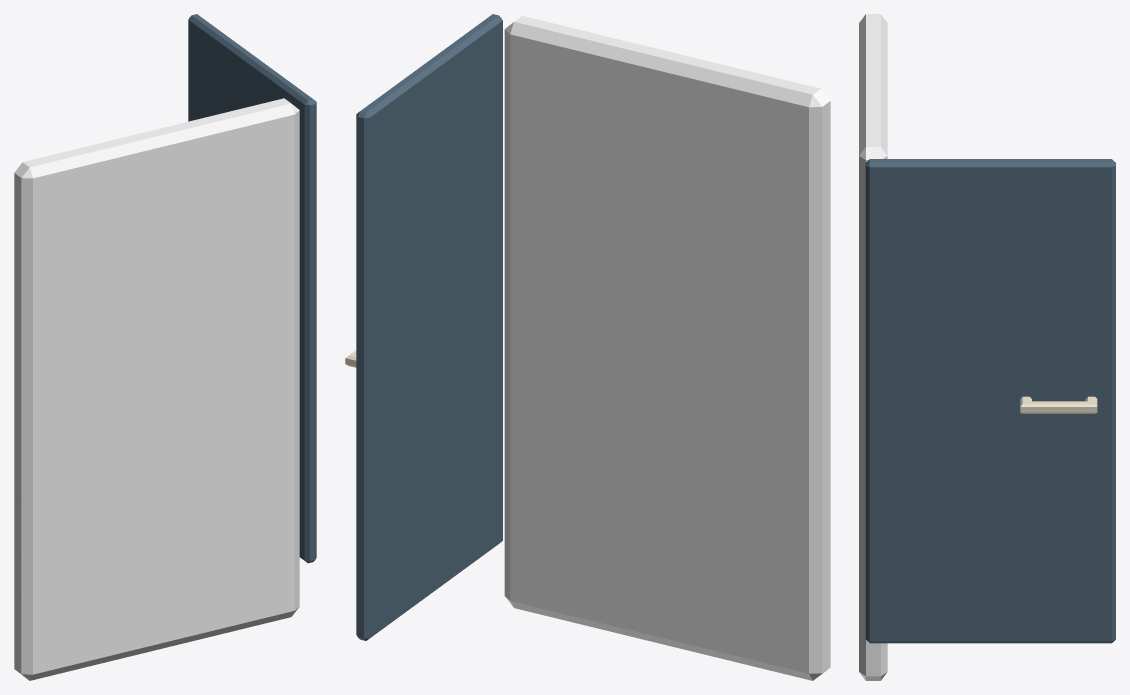
Rendered from SM_BathroomClosed.fbx.
3 renders of one model, left to right at view 1: azimuth 30°, elevation 25°; view 2: azimuth 150°, elevation 25°; view 3: azimuth 270°, elevation 25°, orthographic. The views are drawn at different scales.
Visible parts, largest first — view 1: Cube.031; view 2: Cube.031; view 3: Cube.031.
Boxes of the visible parts, box(x1,y1,x2,y2) form: Cube.031: box(14, 14, 316, 680); Cube.031: box(345, 14, 830, 680); Cube.031: box(859, 14, 1115, 680).
Size of the model in its own units: 78.41 by 115 by 180.
